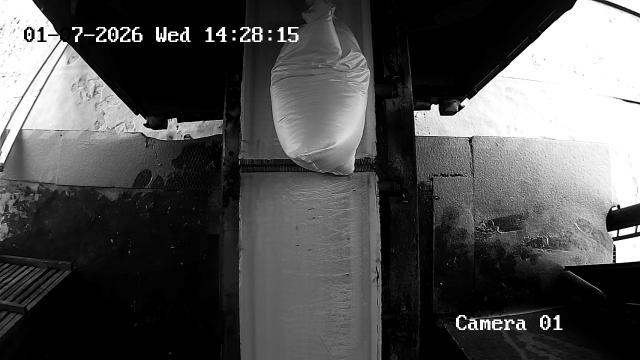bag: (270, 0, 370, 176)
